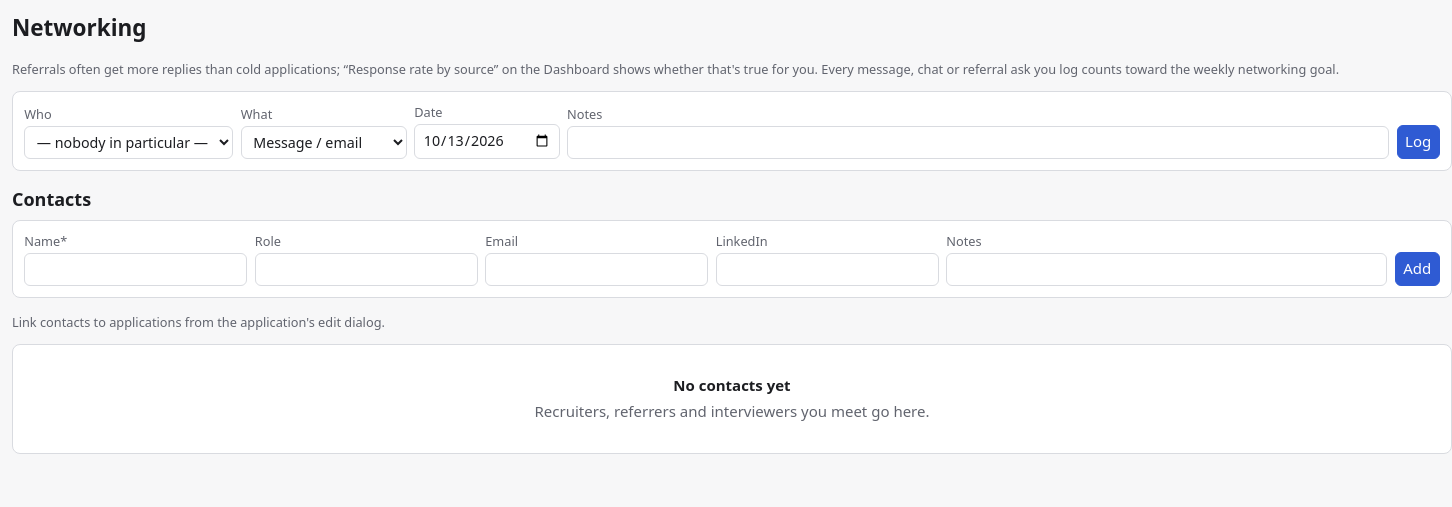
it: NetworkingPage › requires a name when 'new contact' is chosen
Expected: the text "No contacts yet" is shown, [673,376,791,396]
Select "+ New contact…" in the dropdown labelled "Who" at (129, 142), box [24,126,233,159]
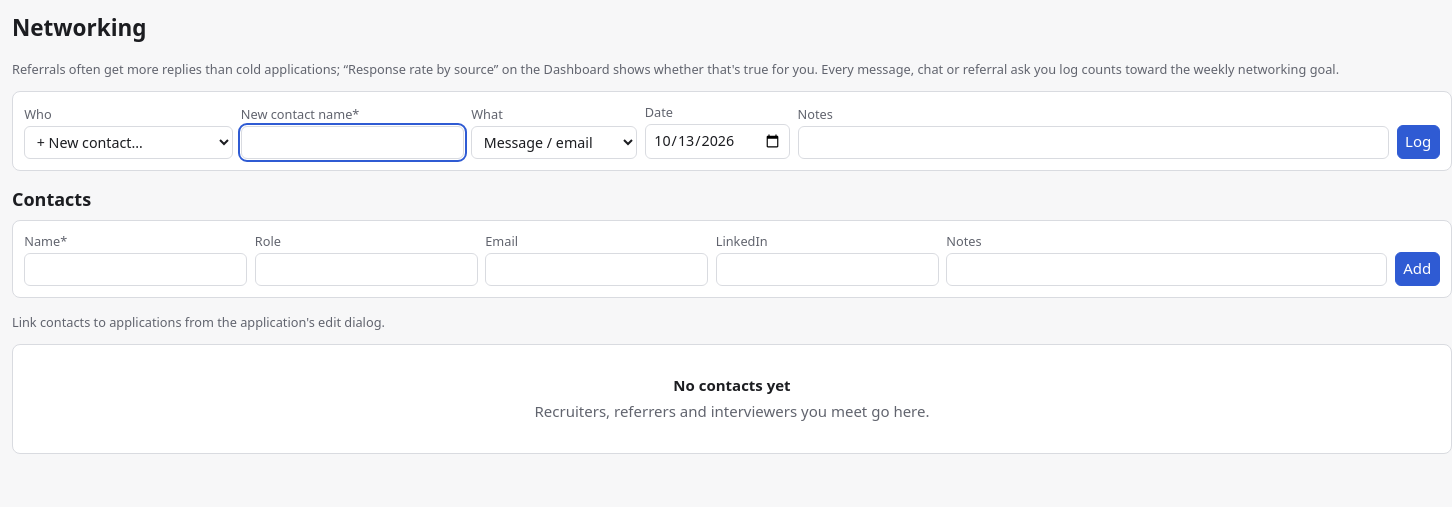
Click the button "Log" at (1418, 142), box [1397,125,1440,159]
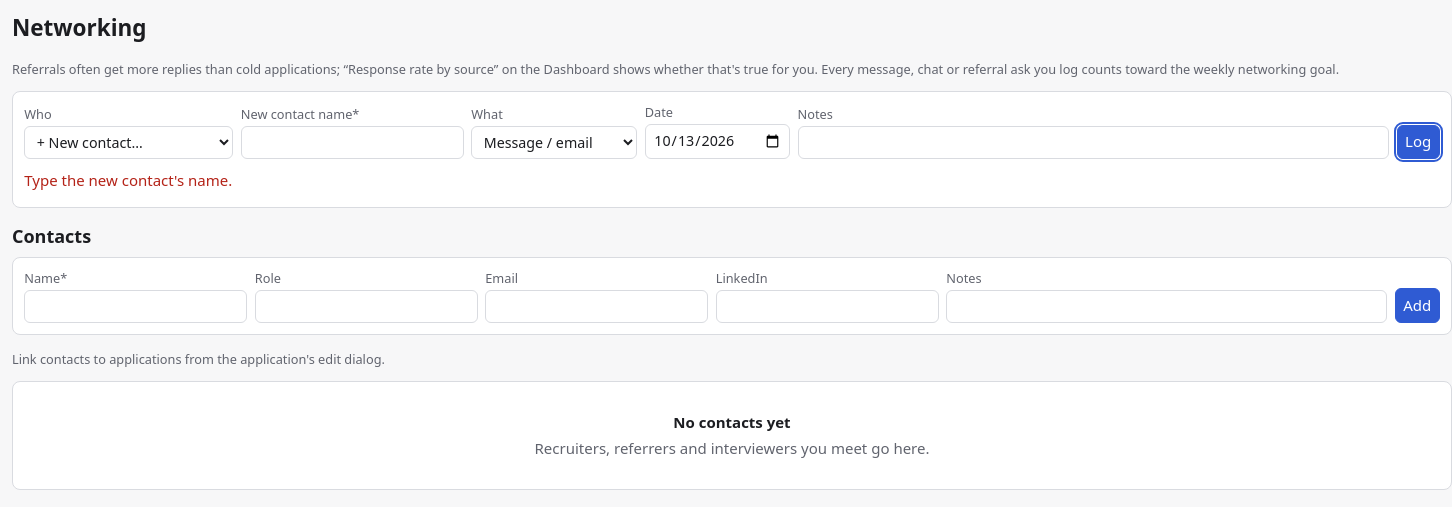
Expected: the message shows "name", [24,170,232,190]
